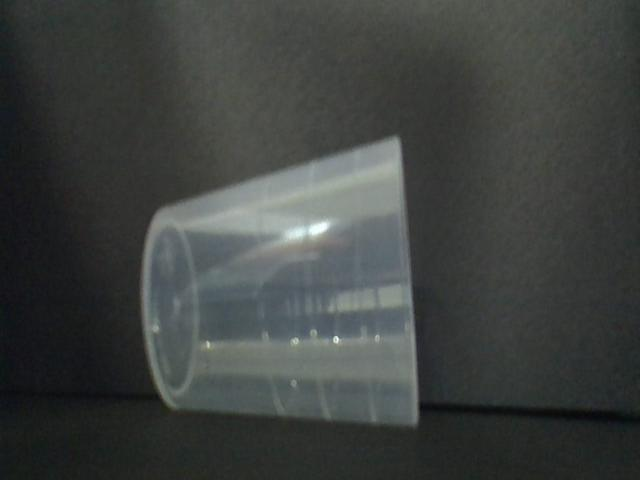cup: (138, 137, 429, 433)
